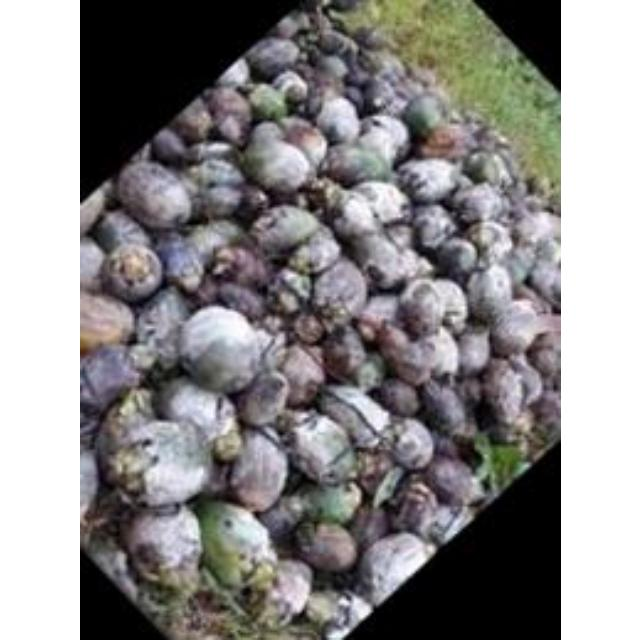damaged: (102, 416, 206, 508), (120, 502, 202, 590), (354, 530, 431, 606), (115, 160, 193, 230), (152, 378, 235, 442), (226, 428, 290, 510), (284, 412, 356, 483), (240, 129, 316, 195), (315, 386, 389, 450), (79, 344, 141, 418), (376, 322, 444, 386), (347, 230, 417, 292), (134, 290, 190, 362), (184, 156, 246, 216), (252, 204, 322, 256), (294, 520, 360, 572), (262, 559, 314, 625), (479, 359, 528, 427), (310, 259, 366, 317), (275, 344, 327, 406), (234, 371, 290, 427), (487, 303, 545, 357), (395, 278, 447, 336), (150, 232, 203, 288), (394, 158, 460, 202), (210, 242, 270, 290), (321, 326, 372, 382), (423, 453, 475, 507), (465, 264, 515, 320), (323, 144, 389, 186), (296, 481, 362, 523), (418, 380, 467, 434), (349, 181, 408, 225), (386, 416, 434, 470), (390, 482, 438, 534), (185, 220, 241, 264), (268, 266, 316, 316), (354, 117, 406, 163), (313, 95, 361, 141), (410, 203, 456, 250), (450, 183, 504, 223), (295, 228, 343, 272), (424, 278, 468, 326), (464, 220, 512, 262), (215, 284, 268, 322), (203, 86, 250, 128), (510, 206, 556, 248), (422, 504, 468, 546), (354, 448, 394, 496), (434, 237, 478, 279), (171, 97, 213, 141), (374, 378, 420, 418), (526, 255, 560, 309), (456, 328, 492, 376), (351, 506, 389, 550), (148, 126, 190, 164), (525, 336, 559, 378), (453, 376, 483, 414), (292, 312, 326, 344), (190, 278, 224, 310), (384, 221, 416, 253), (354, 312, 386, 342), (432, 433, 464, 462)
